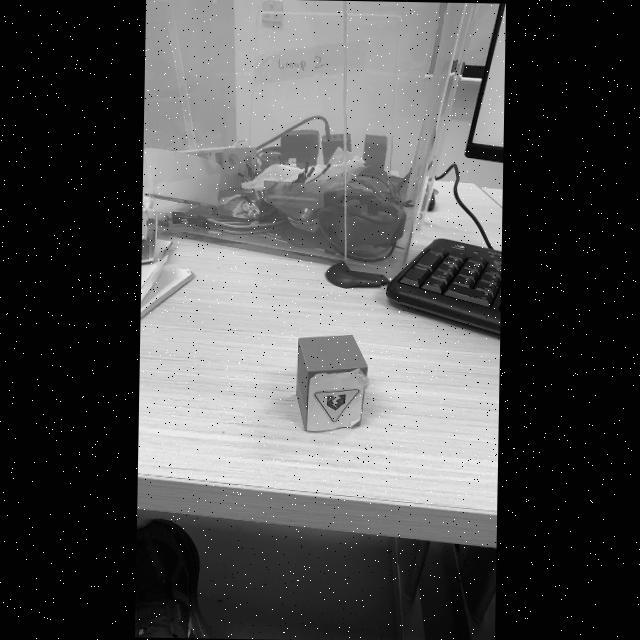Earthquake: (313, 388, 358, 422)
